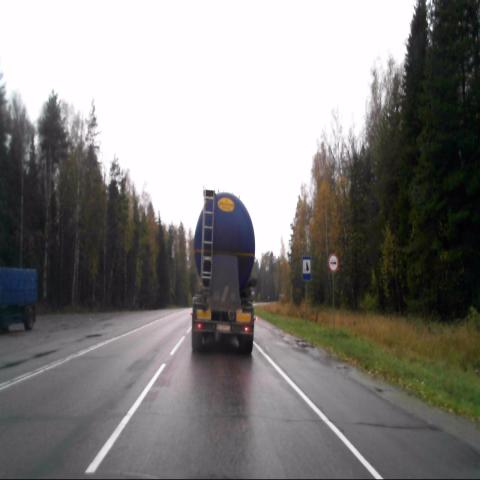3_20: (328, 255, 338, 275)
7_11: (302, 256, 312, 281)
